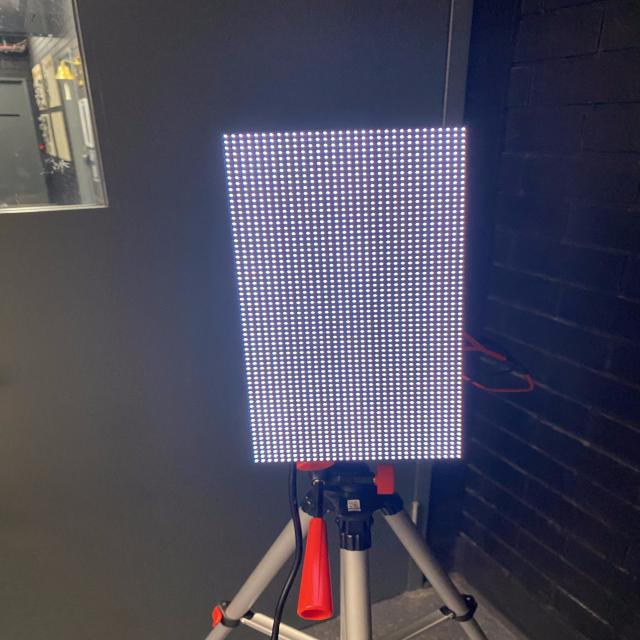matrix: (213, 119, 487, 480)
